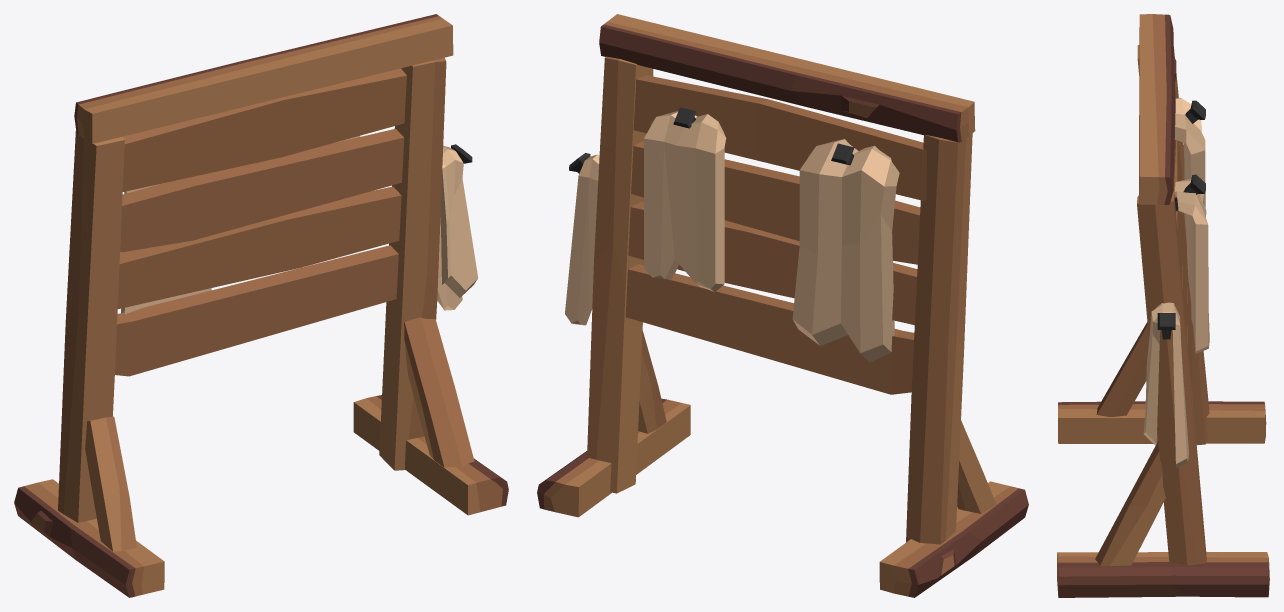
File: hackle_stand.fbx
3 renders of one model, left to right at view 1: azimuth 30°, elevation 25°; view 2: azimuth 150°, elevation 25°; view 3: azimuth 270°, elevation 25°, orthographic. The views are drawn at different scales.
Visible parts, largest first — view 1: hackle_stand; view 2: hackle_stand; view 3: hackle_stand.
Part boxes in pixels (x1,y1,x2,y2): hackle_stand: (14,14,508,597); hackle_stand: (537,14,1028,597); hackle_stand: (1057,14,1269,597).
Size of the model in its own units: 86.3 by 91.79 by 42.39.
